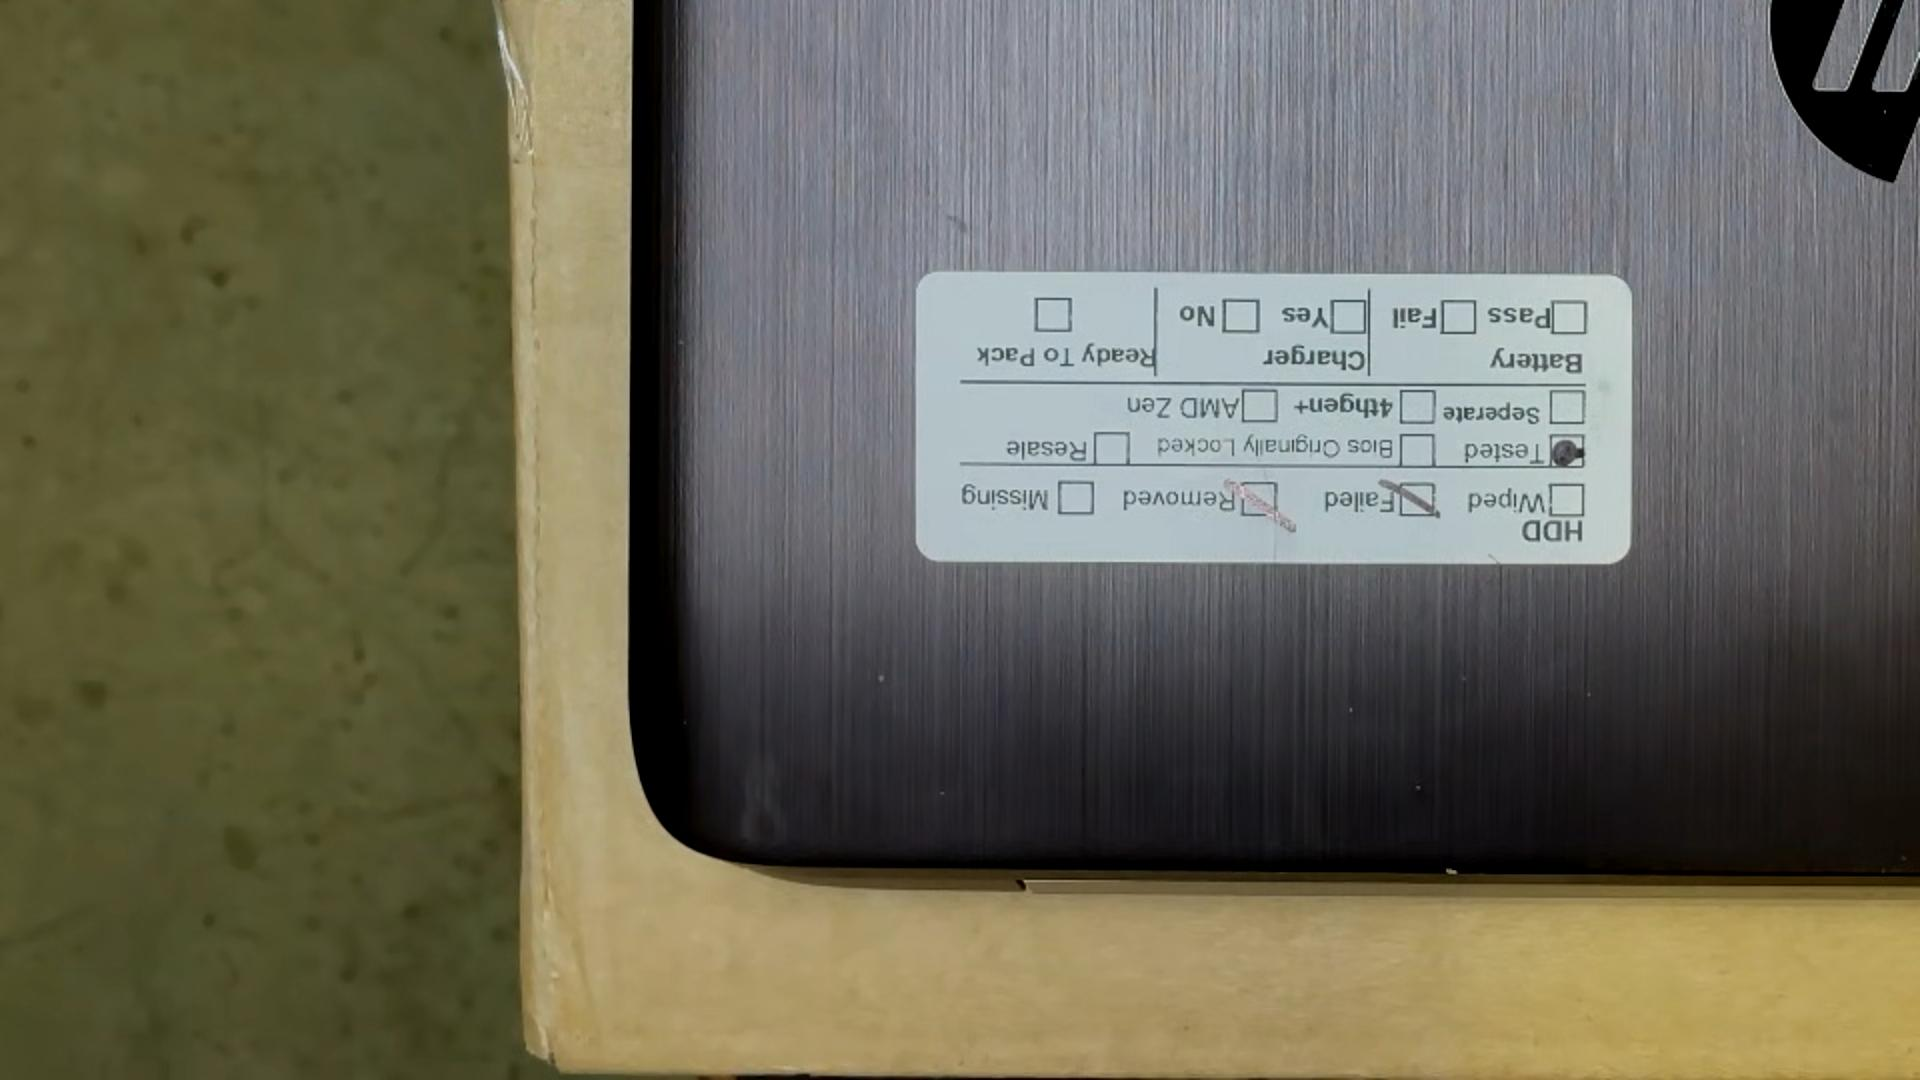chip: (1441, 866, 1460, 874), (1415, 785, 1422, 791)
scratches: (1883, 107, 1887, 116), (1349, 705, 1353, 713)
